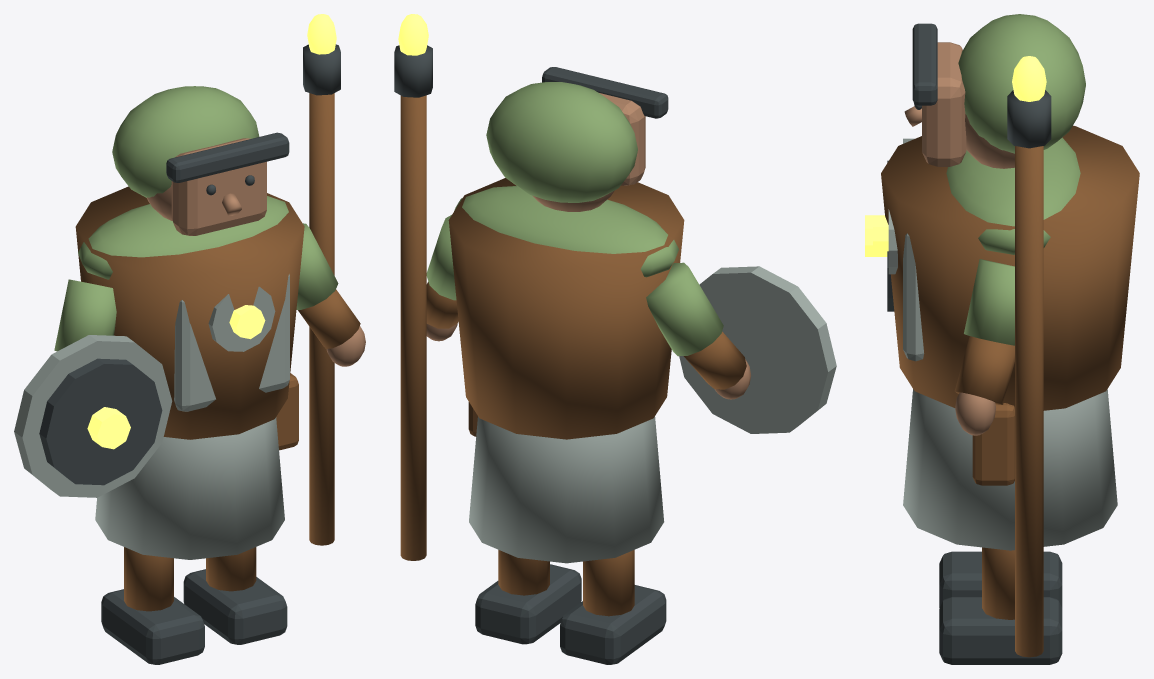
The model's file is SM_EmbermereFenwatchArmsmaster_01.fbx.
The picture shows the model from 3 angles, left to right: view 1: azimuth 30°, elevation 25°; view 2: azimuth 150°, elevation 25°; view 3: azimuth 270°, elevation 25°; orthographic projection. The views are drawn at different scales.
Parts seen in each view (by area): view 1: SM_EmbermereFenwatchArmsmaster_01; view 2: SM_EmbermereFenwatchArmsmaster_01; view 3: SM_EmbermereFenwatchArmsmaster_01.
Boxes of the visible parts, box(x1,y1,x2,y2) form: SM_EmbermereFenwatchArmsmaster_01: box(14, 14, 365, 664); SM_EmbermereFenwatchArmsmaster_01: box(394, 14, 836, 664); SM_EmbermereFenwatchArmsmaster_01: box(865, 14, 1139, 664).
Bounding box in the file's own units: 155 × 87 × 228.
